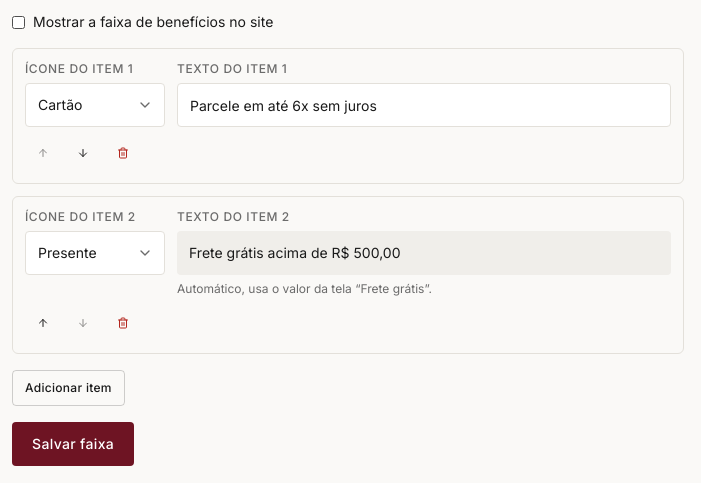
Test: HighlightsForm › reordena, liga e salva na ordem nova
The width and height of the screenshot is (701, 483).
Click the button named "Mover item 2 para cima": click(43, 323) x1=25 y1=305 x2=61 y2=341
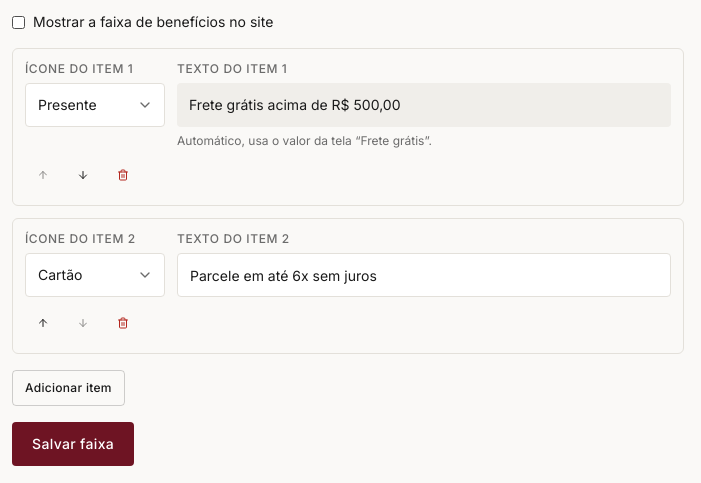
Click the checkbox labelled "Mostrar a faixa de benefícios no site": click(18, 22) x1=12 y1=16 x2=25 y2=28
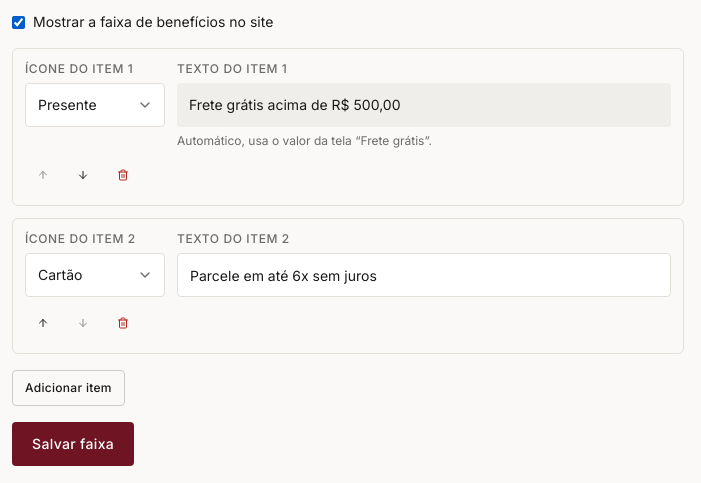
Click the button "Salvar faixa": click(73, 444) x1=12 y1=422 x2=134 y2=466
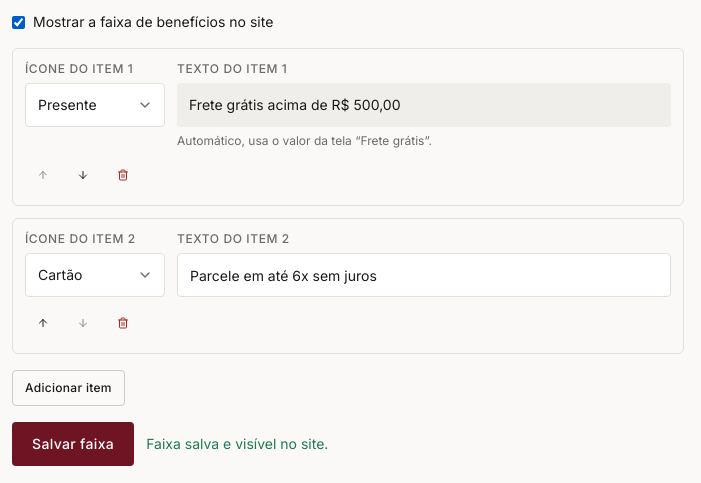
Now the text "Faixa salva e visível no site." is shown, box x1=146 y1=434 x2=328 y2=454
